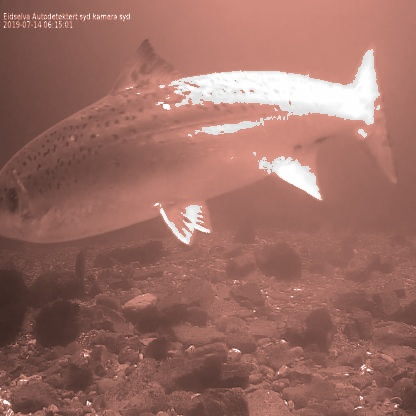salmon: (0, 36, 403, 250)
